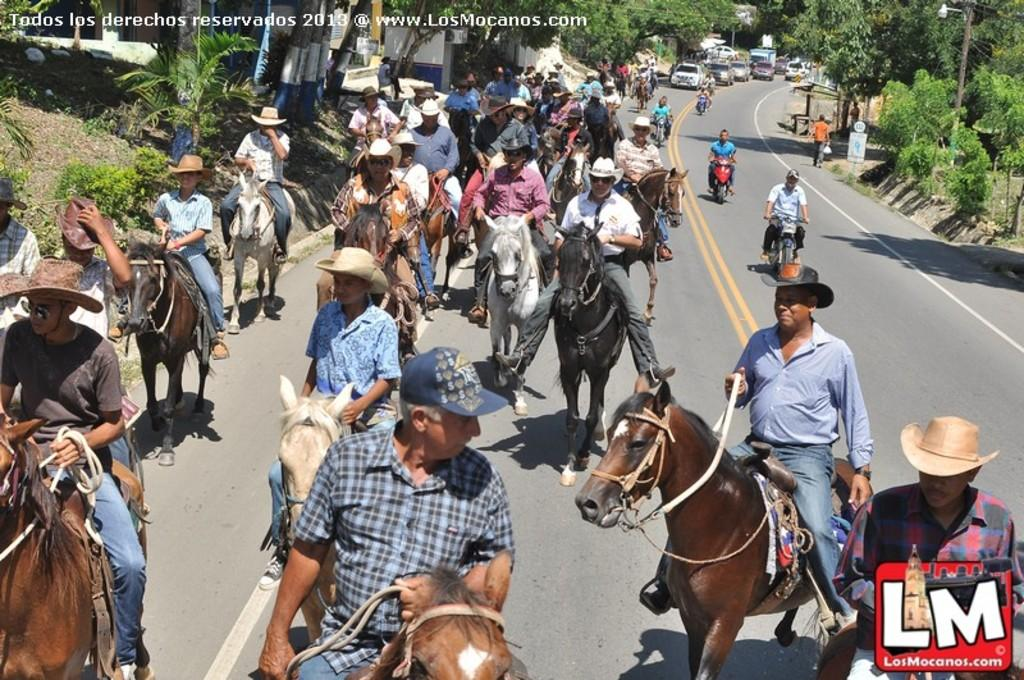Hat: (396, 346, 510, 416), (900, 413, 998, 478), (0, 256, 103, 314), (313, 244, 386, 294), (757, 264, 833, 310), (55, 196, 115, 252), (165, 155, 217, 182), (585, 153, 623, 188), (366, 136, 402, 172), (0, 175, 32, 210), (498, 134, 534, 156), (481, 96, 514, 116), (254, 106, 286, 125), (512, 94, 534, 116), (421, 95, 441, 117), (630, 115, 652, 134), (456, 76, 480, 88), (360, 89, 380, 102), (402, 129, 416, 146), (781, 169, 799, 179), (566, 112, 580, 118), (606, 80, 618, 87)
